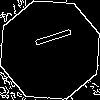I: (25, 25, 73, 52)
